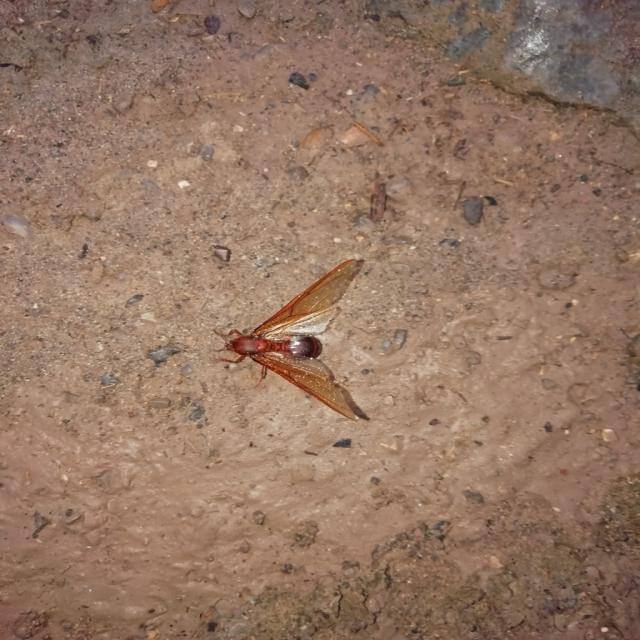Alive-Male-Alate: (213, 259, 359, 422)
